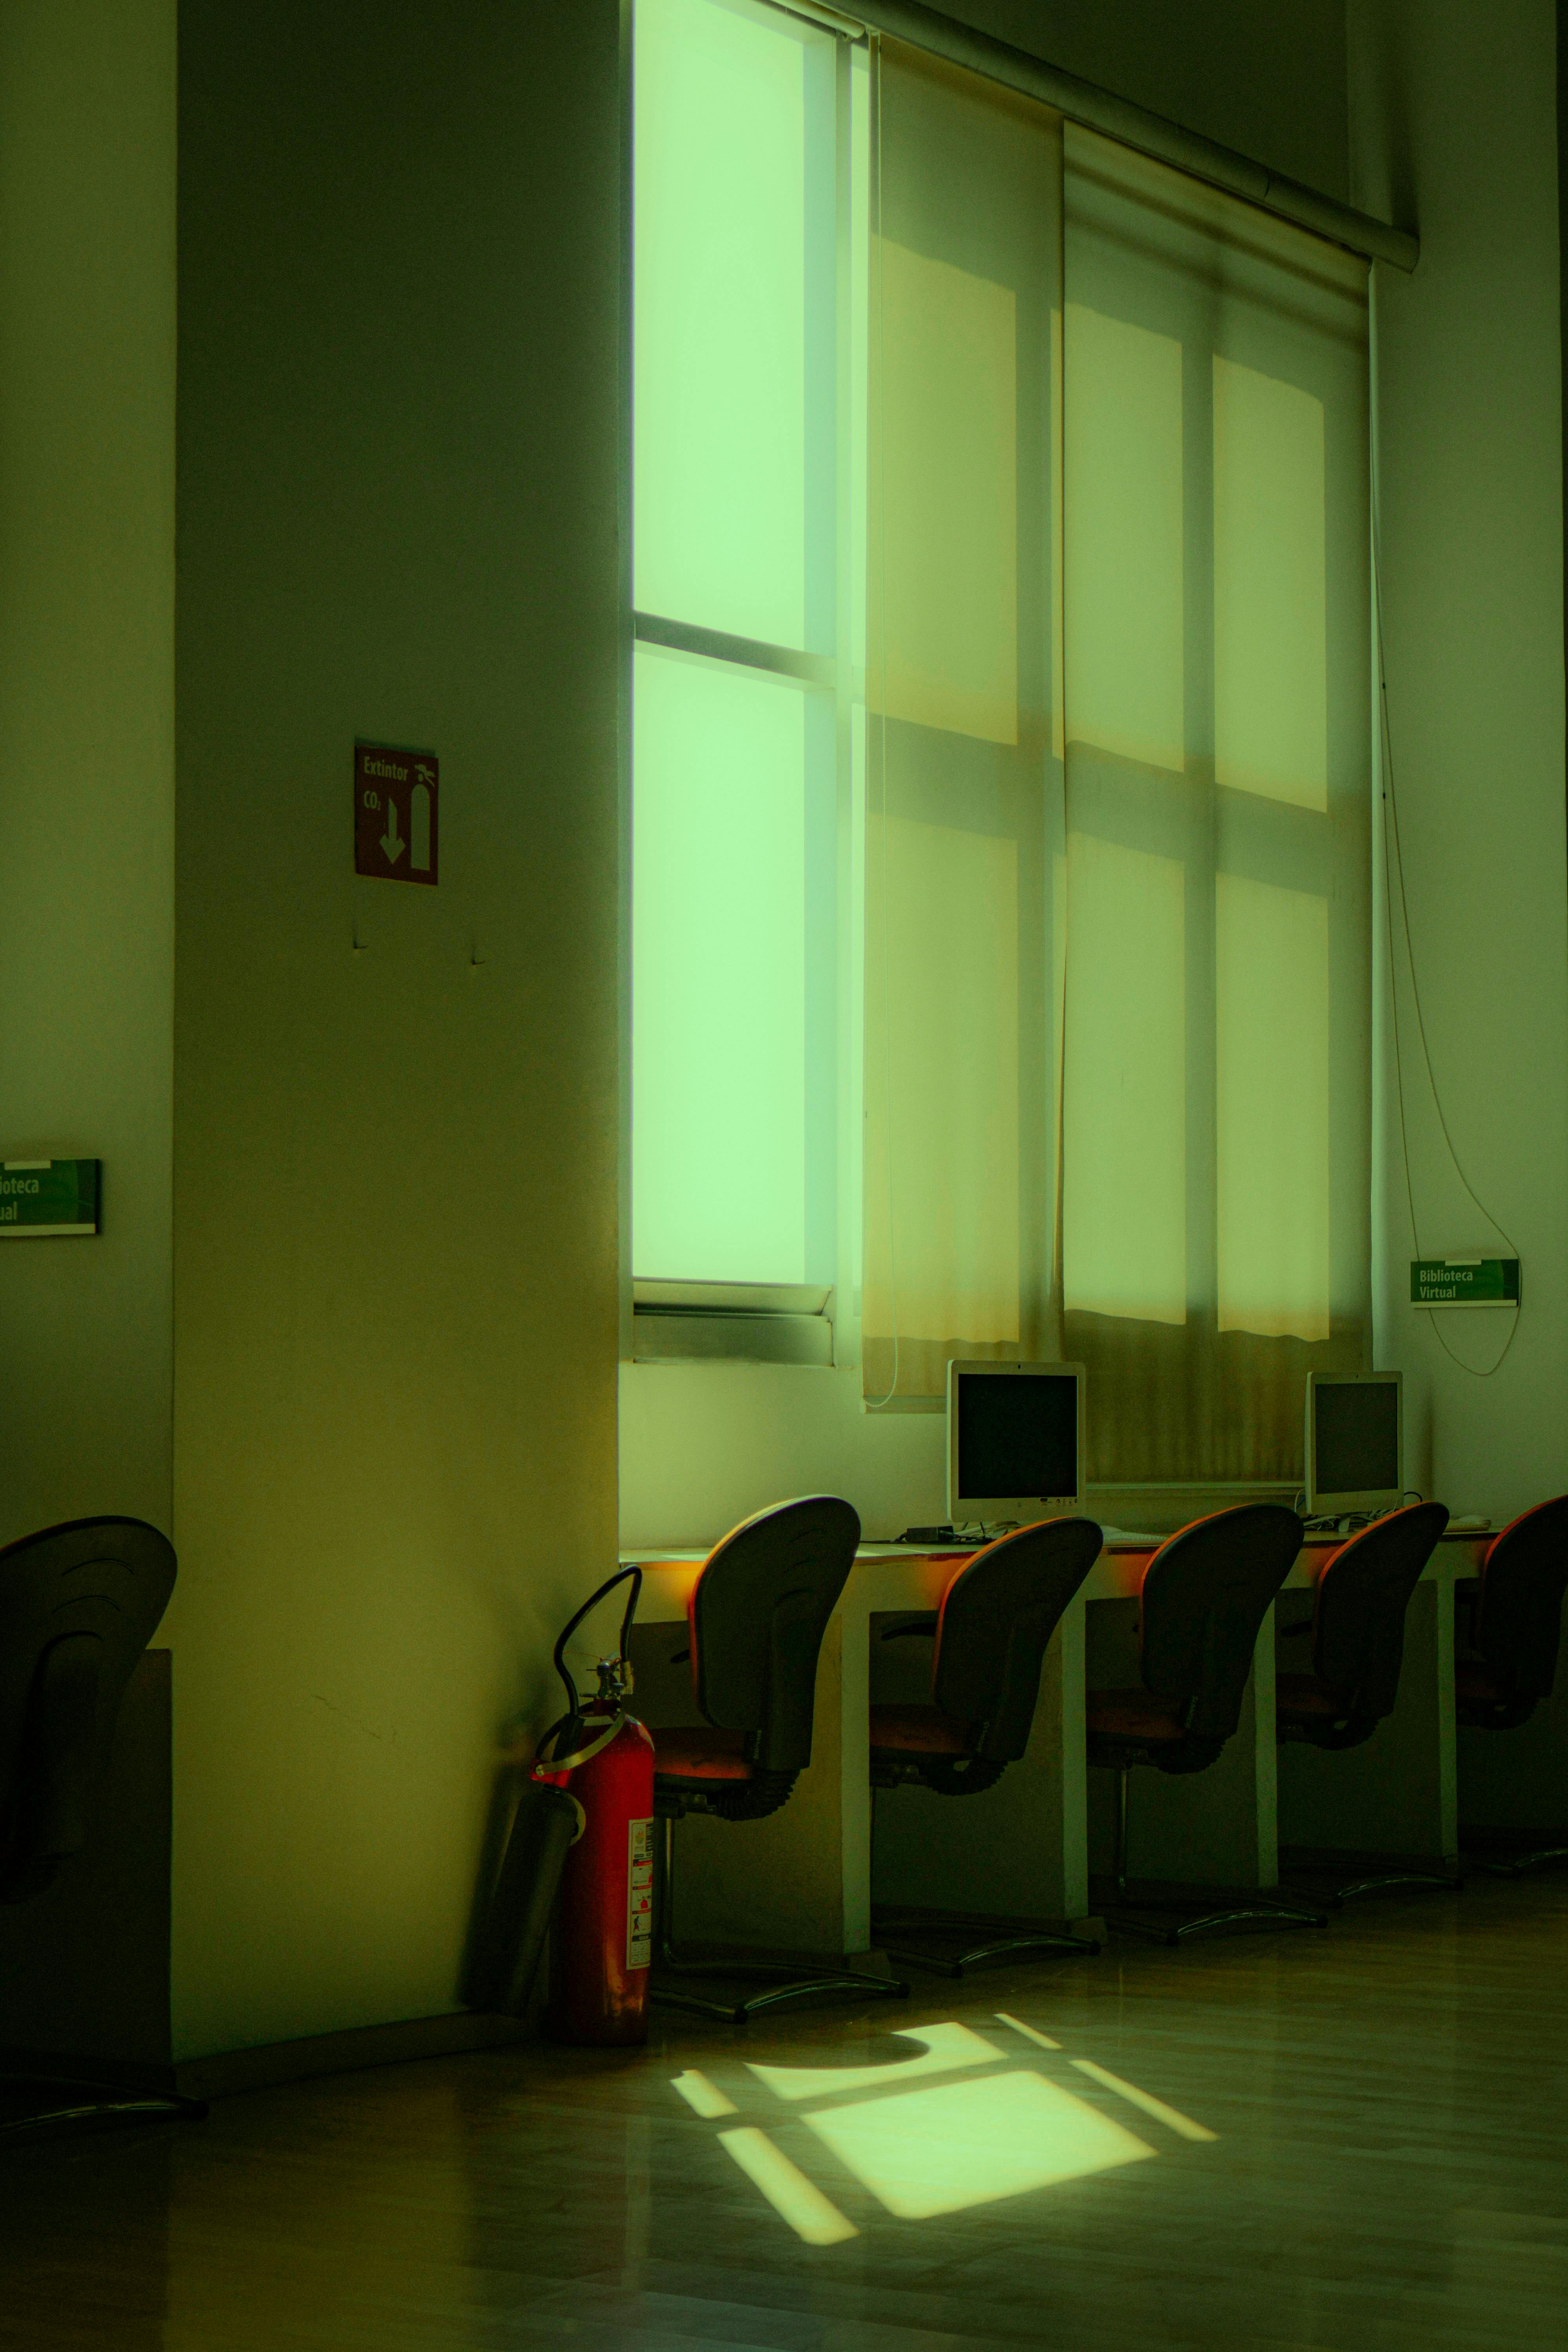extintor: (534, 1640, 663, 2051)
